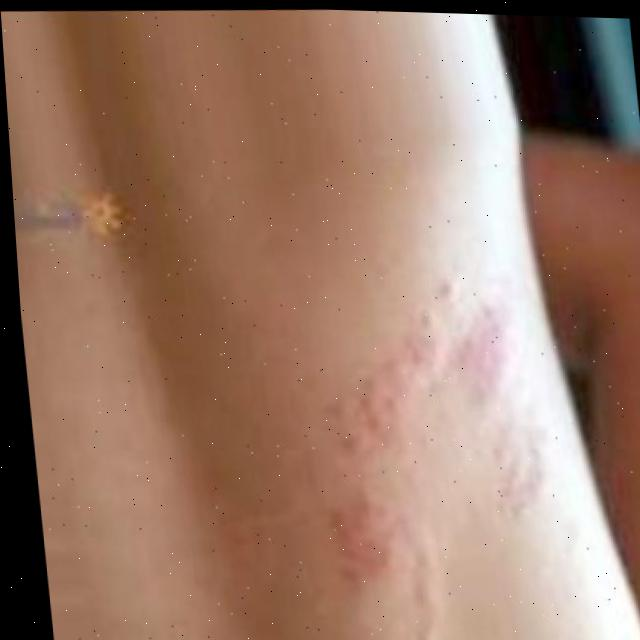Shingles: (318, 293, 552, 563)
